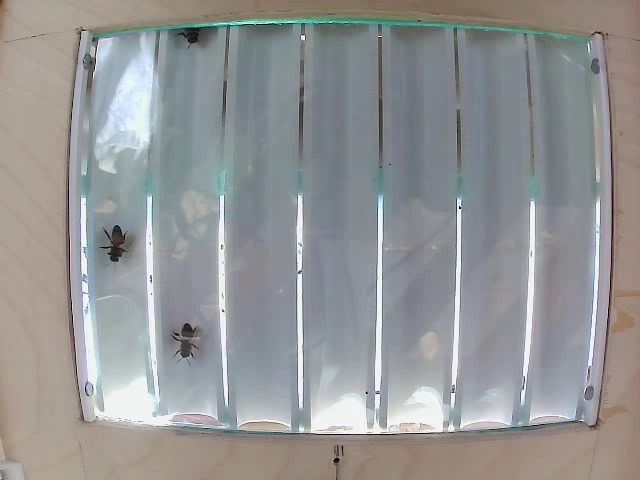bee: (169, 315, 203, 365), (96, 220, 131, 268)
